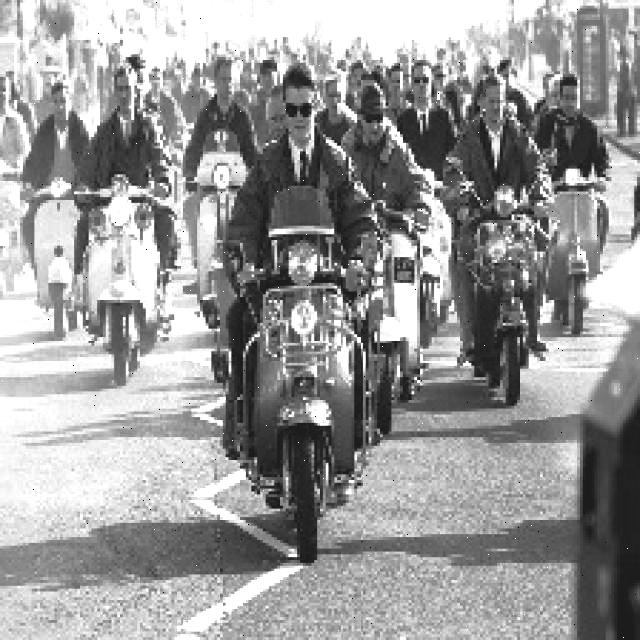Bike: (234, 220, 376, 549), (464, 183, 552, 416), (79, 179, 165, 353), (8, 179, 92, 331), (538, 164, 609, 330), (192, 164, 238, 316)
